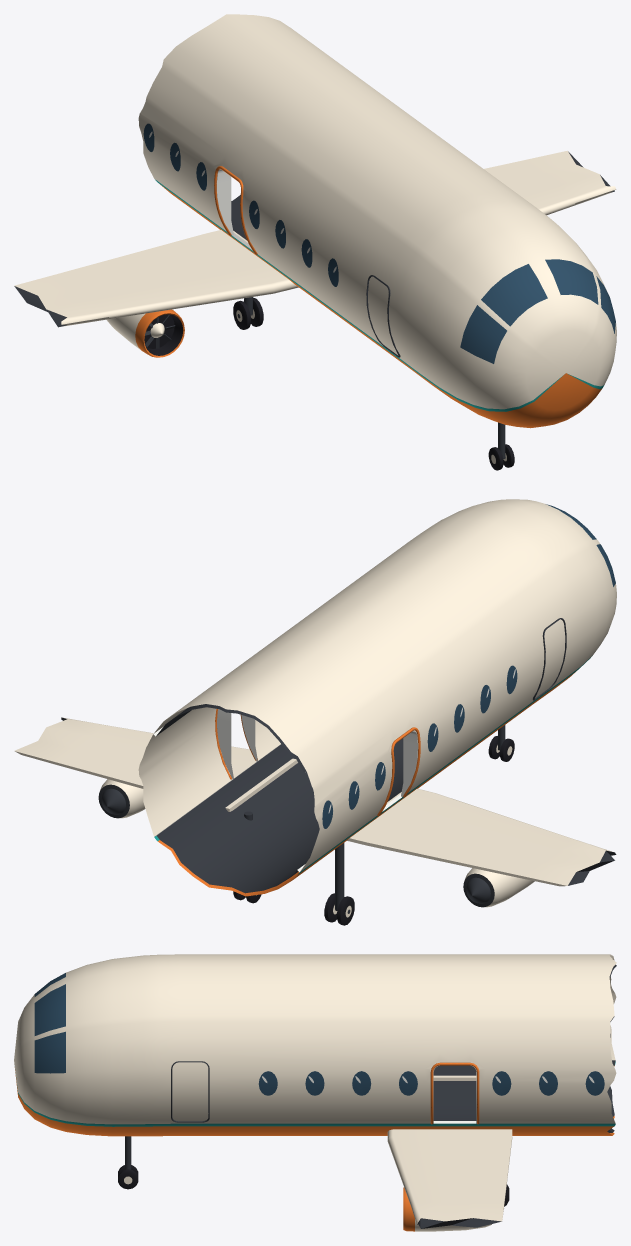
The model's file is RotBase.fbx.
3 views of the same model, one above another, from view 1: azimuth 30°, elevation 25°; view 2: azimuth 150°, elevation 25°; view 3: azimuth 270°, elevation 25° (orthographic). The views are drawn at different scales.
Visible parts, largest first — view 1: RotBase; view 2: RotBase; view 3: RotBase.
Part boxes in pixels (x1,y1,x2,y2): RotBase: [14, 14, 616, 470]; RotBase: [14, 499, 616, 925]; RotBase: [14, 954, 616, 1231].
Size of the model in its own units: 54.99 by 23.75 by 58.1.
1 material, 1 textured.
